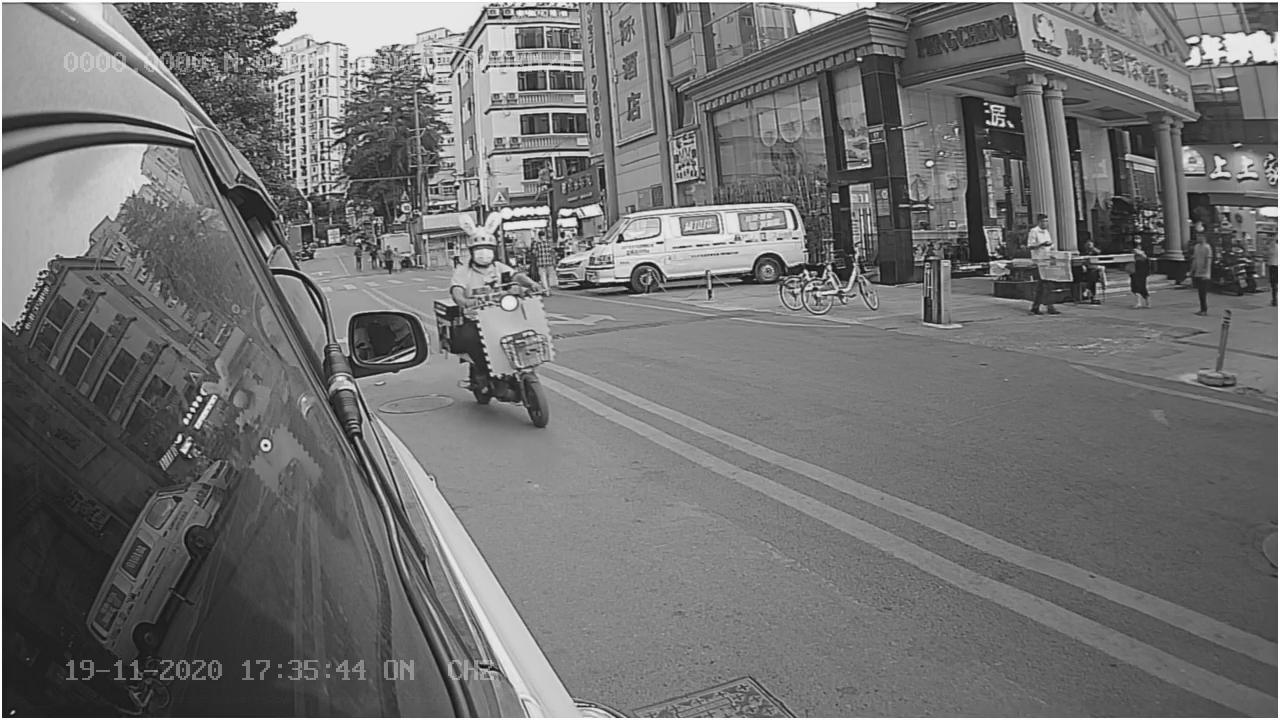person: (448, 212, 527, 307)
